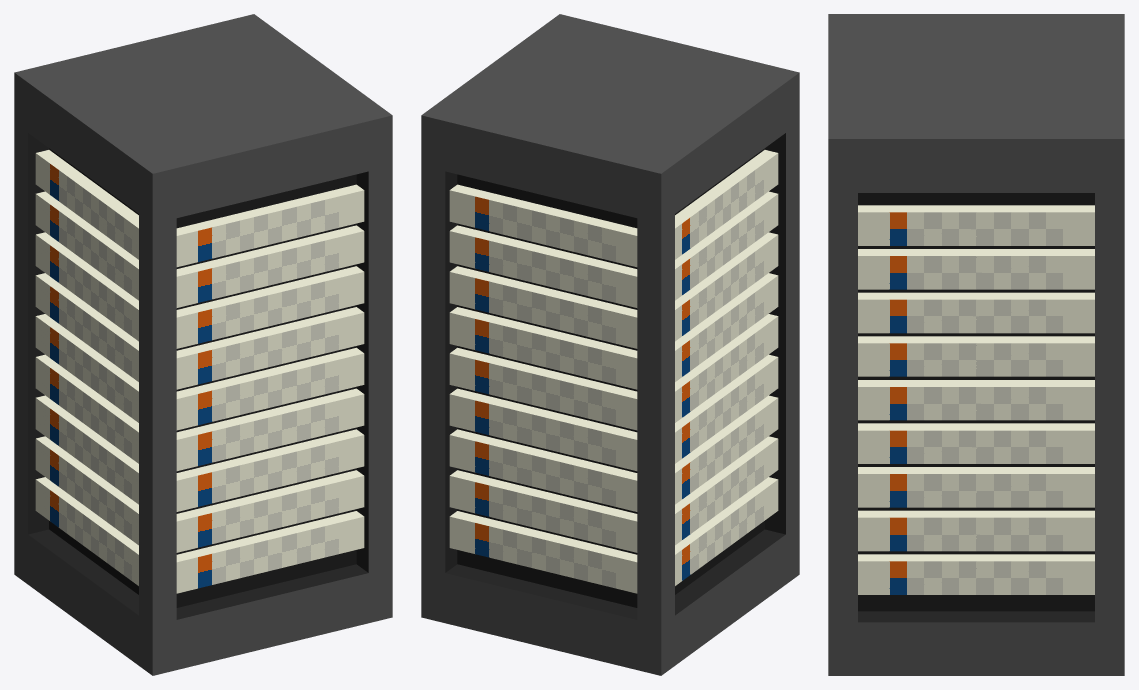
File: serverF.gltf
3 views of the same model, side by side, from view 1: azimuth 30°, elevation 25°; view 2: azimuth 150°, elevation 25°; view 3: azimuth 270°, elevation 25° (orthographic). The views are drawn at different scales.
Visible parts, largest first — view 1: cuboid (×10); view 2: cuboid (×10); view 3: cuboid (×10).
Part boxes in pixels (x1,y1,x2,y2): cuboid (×10): (14, 14, 392, 675); cuboid (×10): (421, 14, 799, 675); cuboid (×10): (828, 14, 1124, 675).
Bounding box in the file's own units: 0.5 × 1 × 0.5.
1 material, 1 textured.
